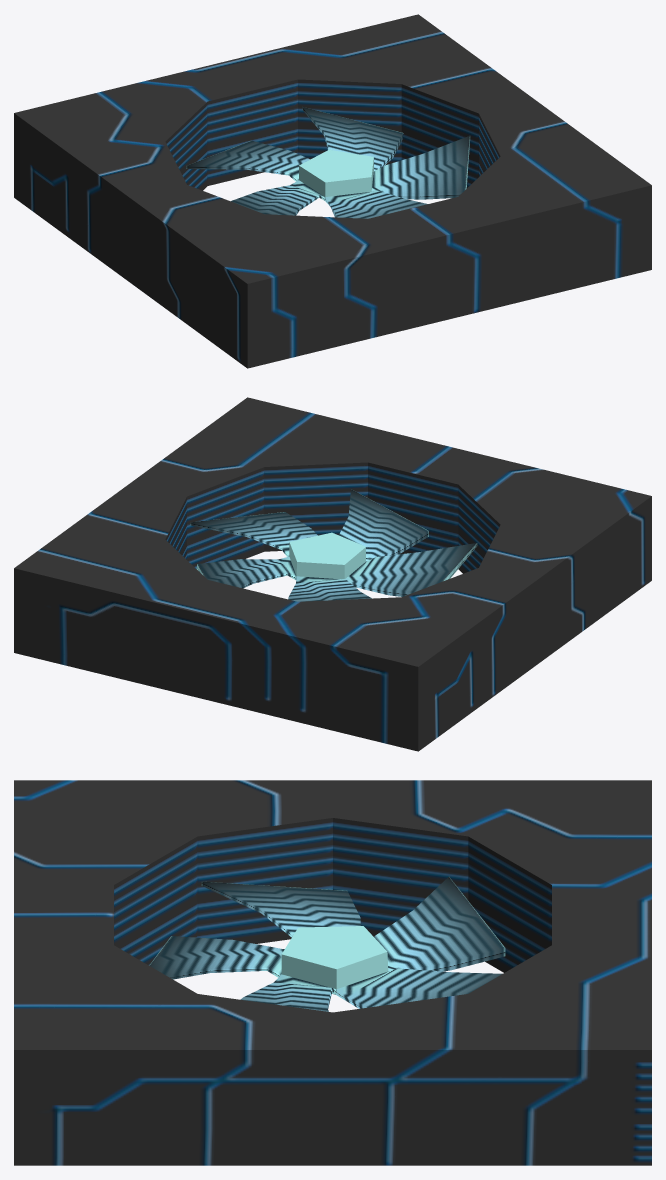
The model's file is Norris_Fan_Fix.fbx.
The picture shows the model from 3 angles, top to bottom: view 1: azimuth 30°, elevation 25°; view 2: azimuth 150°, elevation 25°; view 3: azimuth 270°, elevation 25°; orthographic projection. The views are drawn at different scales.
Visible parts, largest first — view 1: FanBase2; view 2: FanBase2; view 3: FanBase2.
Part boxes in pixels (x1=…): FanBase2: x1=14, y1=14, x2=651, y2=368; FanBase2: x1=14, y1=397, x2=651, y2=751; FanBase2: x1=14, y1=780, x2=651, y2=1165.
Bounding box in the file's own units: 7.98 × 1.6 × 7.98.
